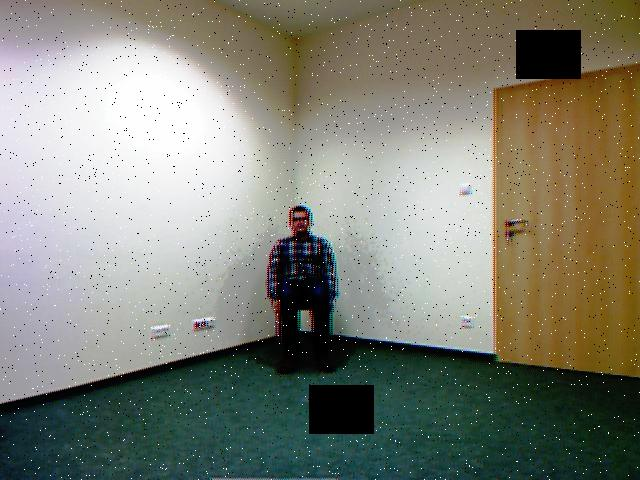sitting: (261, 189, 347, 377)
